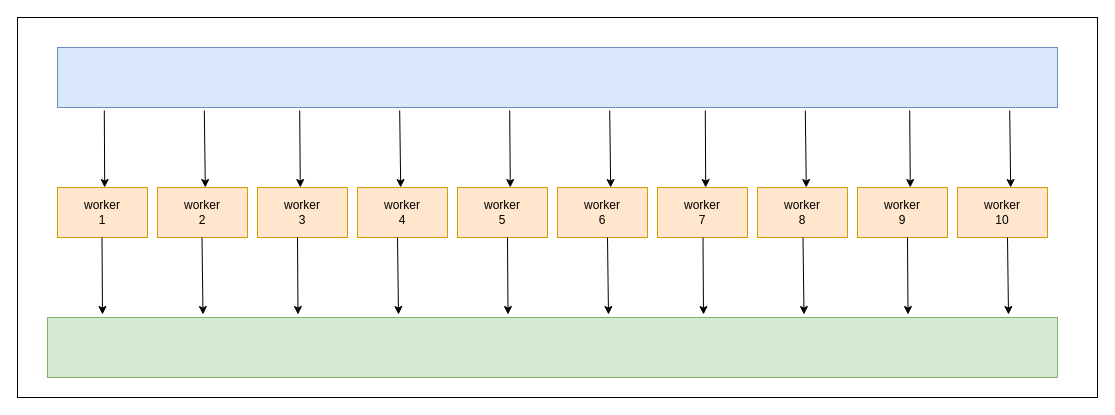
Image size: 1115x415. Some labels were removed from this diagram. The centre of each missing label's shape, as x and y in pixels:
"Jobs Channel" belongs at (557,77).
"Results Channel" belongs at (552,347).
